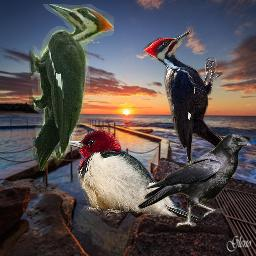Crow: (138, 133, 254, 228)
Woodpecker: (29, 4, 114, 171), (142, 29, 234, 171), (61, 130, 202, 220)
